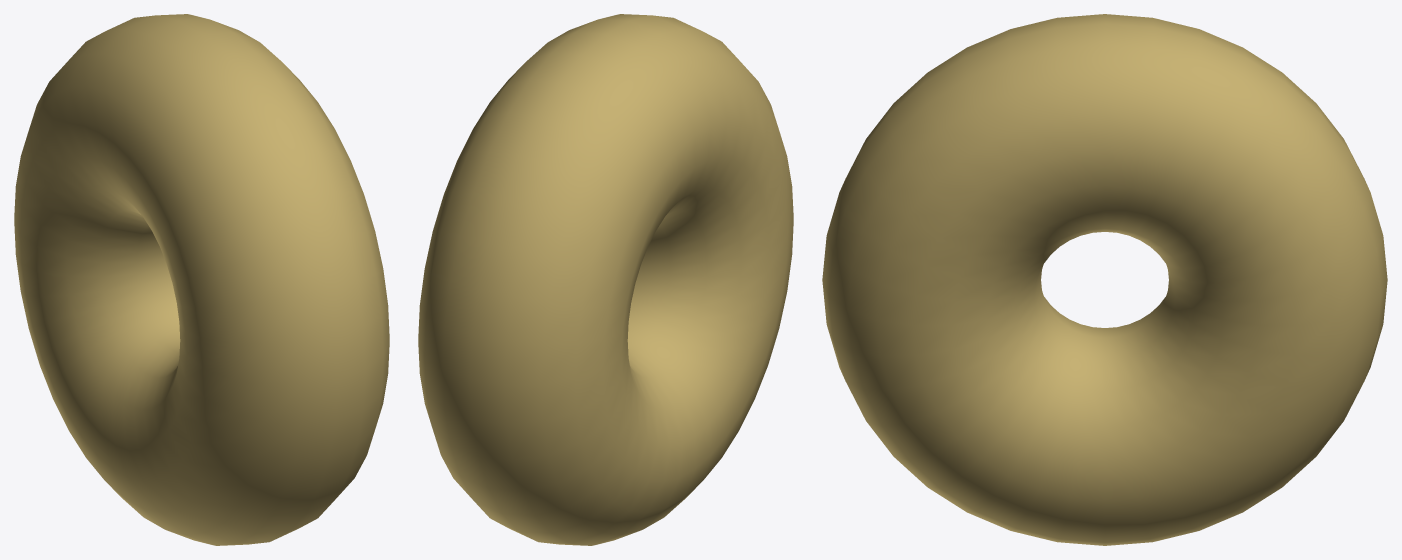
The model's file is bagel.fbx.
3 views of the same model, side by side, from view 1: azimuth 30°, elevation 25°; view 2: azimuth 150°, elevation 25°; view 3: azimuth 270°, elevation 25° (orthographic). The views are drawn at different scales.
Parts seen in each view (by area): view 1: Torus; view 2: Torus; view 3: Torus.
Part boxes in pixels (x1,y1,x2,y2): Torus: [14, 14, 389, 545]; Torus: [418, 14, 793, 545]; Torus: [822, 14, 1387, 545].
Size of the model in its own units: 104 by 274 by 274.
